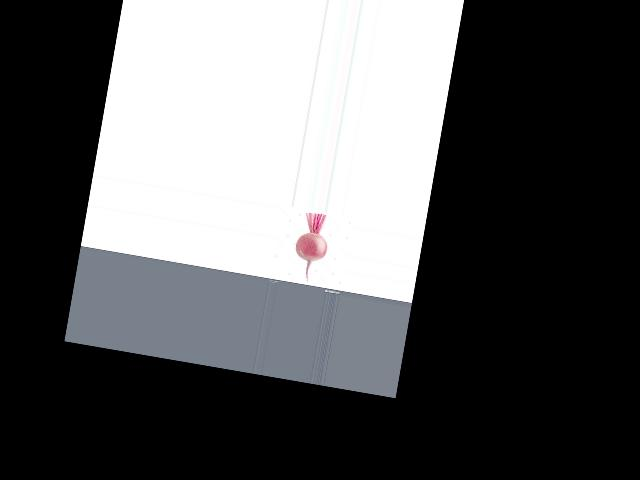beet: (289, 210, 332, 285)
